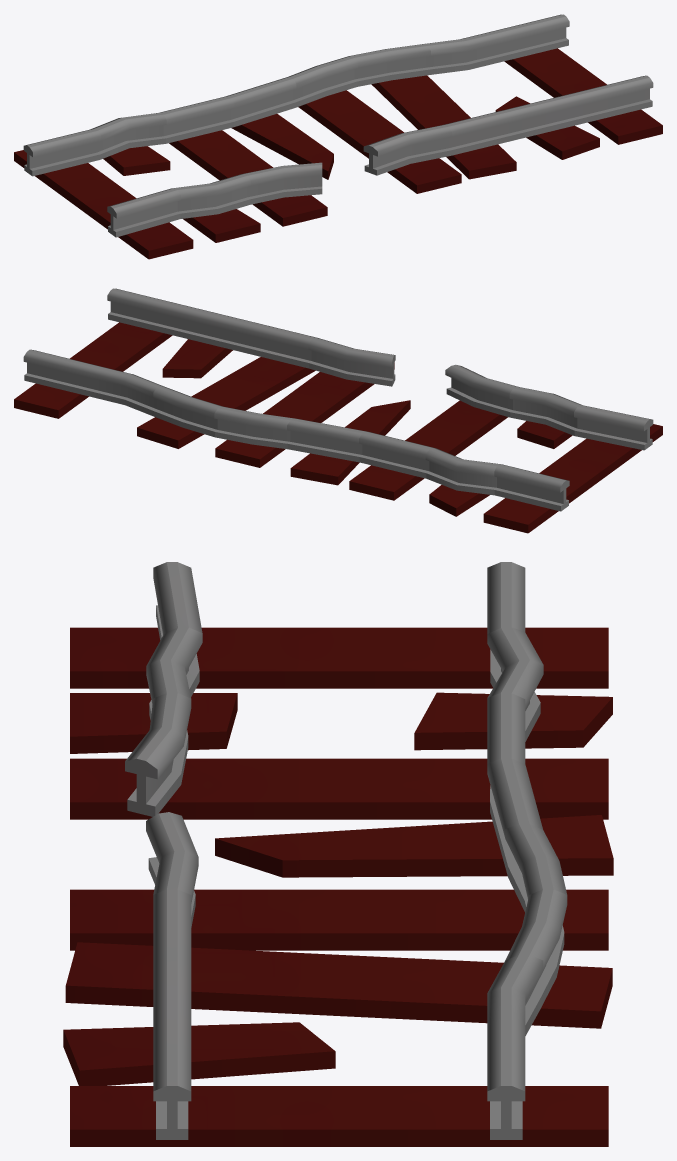
The model's file is Trilho 3.fbx.
3 renders of one model, top to bottom at view 1: azimuth 30°, elevation 25°; view 2: azimuth 150°, elevation 25°; view 3: azimuth 270°, elevation 25°, orthographic. The views are drawn at different scales.
Visible parts, largest first — view 1: Trilho 3 ferro, Trilho 3; view 2: Trilho 3 ferro, Trilho 3; view 3: Trilho 3, Trilho 3 ferro.
Boxes of the visible parts, x1,y1,x2,y2 form: Trilho 3 ferro: (23, 14, 653, 237); Trilho 3: (14, 48, 662, 259); Trilho 3 ferro: (23, 288, 653, 511); Trilho 3: (14, 322, 662, 533); Trilho 3: (63, 627, 613, 1146); Trilho 3 ferro: (125, 562, 567, 1139).
Size of the model in its own units: 1037 by 66.46 by 460.
Materials: 1 (1 with a texture image).
